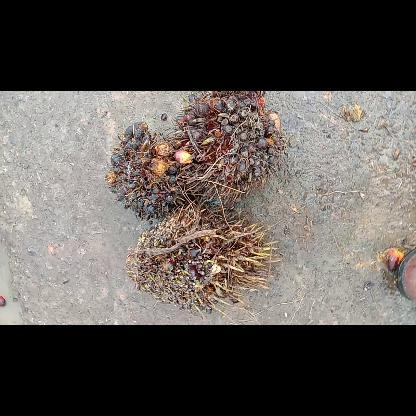TBS abnormal: (126, 203, 280, 315), (174, 91, 284, 205), (107, 122, 192, 220)
